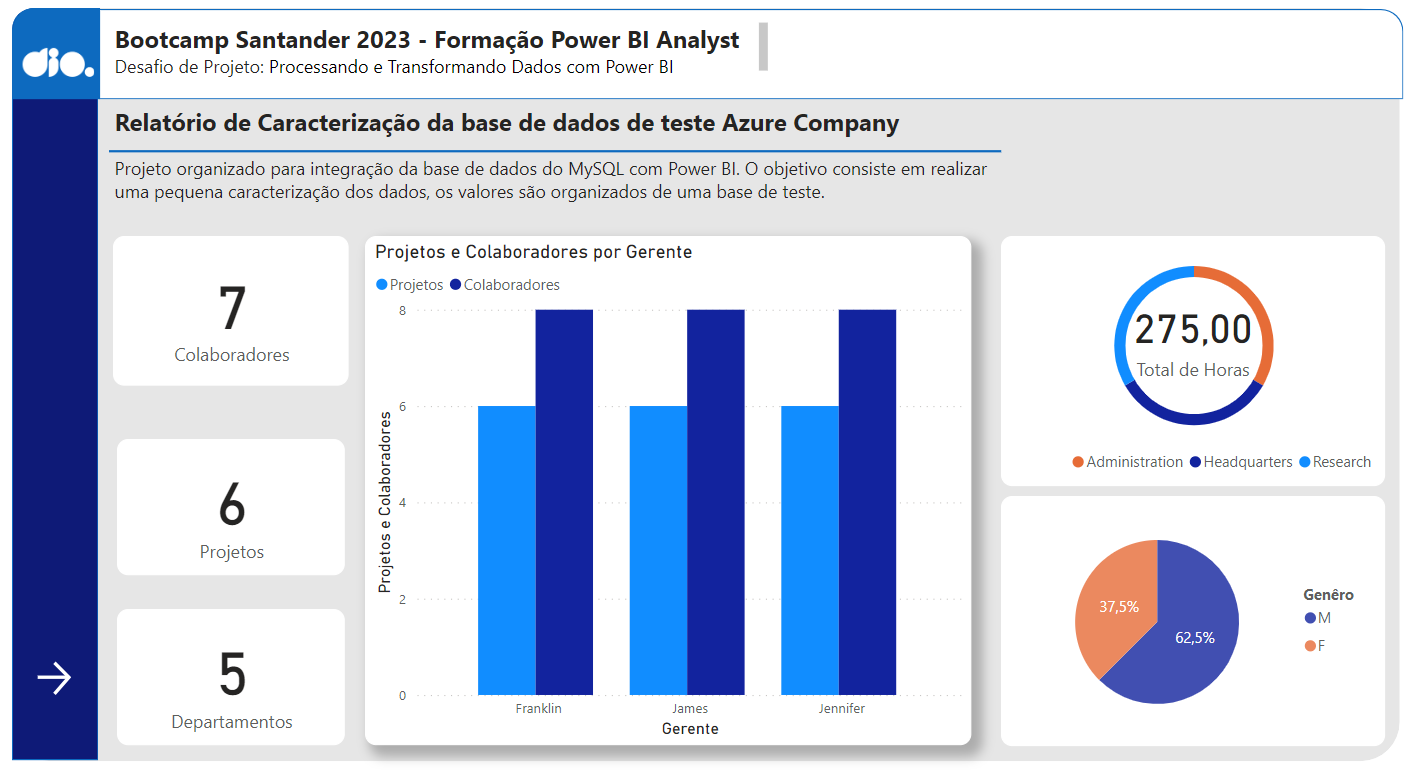

This screenshot's page, from the dashboard's own definition file:
{"tool":"powerbi","page":{"name":"Página 1","canvas":[1280,720],"ordinal":0},"visuals":[{"type":"shape","box":[19.1,15.5,1242.7,674.5],"z":0},{"type":"shape","box":[19.1,15.5,77.3,673.6],"z":1000},{"type":"textbox","box":[105.5,97.3,799.1,121.8],"z":2000},{"type":"shape","box":[20,15.5,78.2,81.8],"z":3000},{"type":"image","title":"logo_dio","box":[23.6,26.4,73.6,74.5],"z":4000},{"type":"shape","box":[96.4,16.4,1168.2,80.9],"z":5000},{"type":"textbox","box":[105.5,23.6,595.5,65.5],"z":6000},{"type":"shape","box":[105.5,129.1,799.1,29.1],"z":7000},{"type":"donutChart","fields":{"Category":["azure_company manager_dept.Dname"],"Y":["azure_company manager_dept.Fname"]},"box":[904.5,219.1,343.6,223.6],"z":8000},{"type":"card","fields":{"Values":["azure_company works_on.Hours"]},"box":[1013.6,268.2,125.5,84.5],"z":9000},{"type":"pieChart","fields":{"Category":["azure_company employee.Sex"],"Y":["azure_company employee.Fname"]},"box":[904.5,451.8,343.6,223.6],"z":10000},{"type":"lineClusteredColumnComboChart","fields":{"Y":["azure_company project (2).Pname","azure_company employee.Fname"],"Category":["Consulta1.Gerente"]},"box":[334.5,219.1,542.7,456.4],"z":11000},{"type":"actionButton","box":[35.5,595.5,45.5,40],"z":12000},{"type":"card","fields":{"Values":["Consulta1.Empregado"]},"box":[109.1,219.1,210.9,133.6],"z":12001},{"type":"card","fields":{"Values":["azure_company project (2).Pname"]},"box":[112.7,400.9,203.6,121.8],"z":12002},{"type":"card","fields":{"Values":["Consulta3.departamento-local"]},"box":[112.7,553.6,203.6,121.8],"z":12003}]}

Visuals, with their boxes in screenshot pixels (x1, y1, x2, y2), scaled from the page's 1280x720 canvas onto the 1412x773 screenshot:
shape: 21 17 1392 741
shape: 21 17 106 740
textbox: 116 104 998 235
shape: 22 17 108 104
"logo_dio" image: 26 28 107 108
shape: 106 18 1395 104
textbox: 116 25 773 96
shape: 116 139 998 170
donutChart - azure_company manager_dept.Dname x azure_company manager_dept.Fname: 998 235 1377 475
card - azure_company works_on.Hours: 1118 288 1257 379
pieChart - azure_company employee.Sex x azure_company employee.Fname: 998 485 1377 725
lineClusteredColumnComboChart - azure_company project (2).Pname x azure_company employee.Fname: 369 235 968 725
actionButton: 39 639 89 682
card - Consulta1.Empregado: 120 235 353 379
card - azure_company project (2).Pname: 124 430 349 561
card - Consulta3.departamento-local: 124 594 349 725
